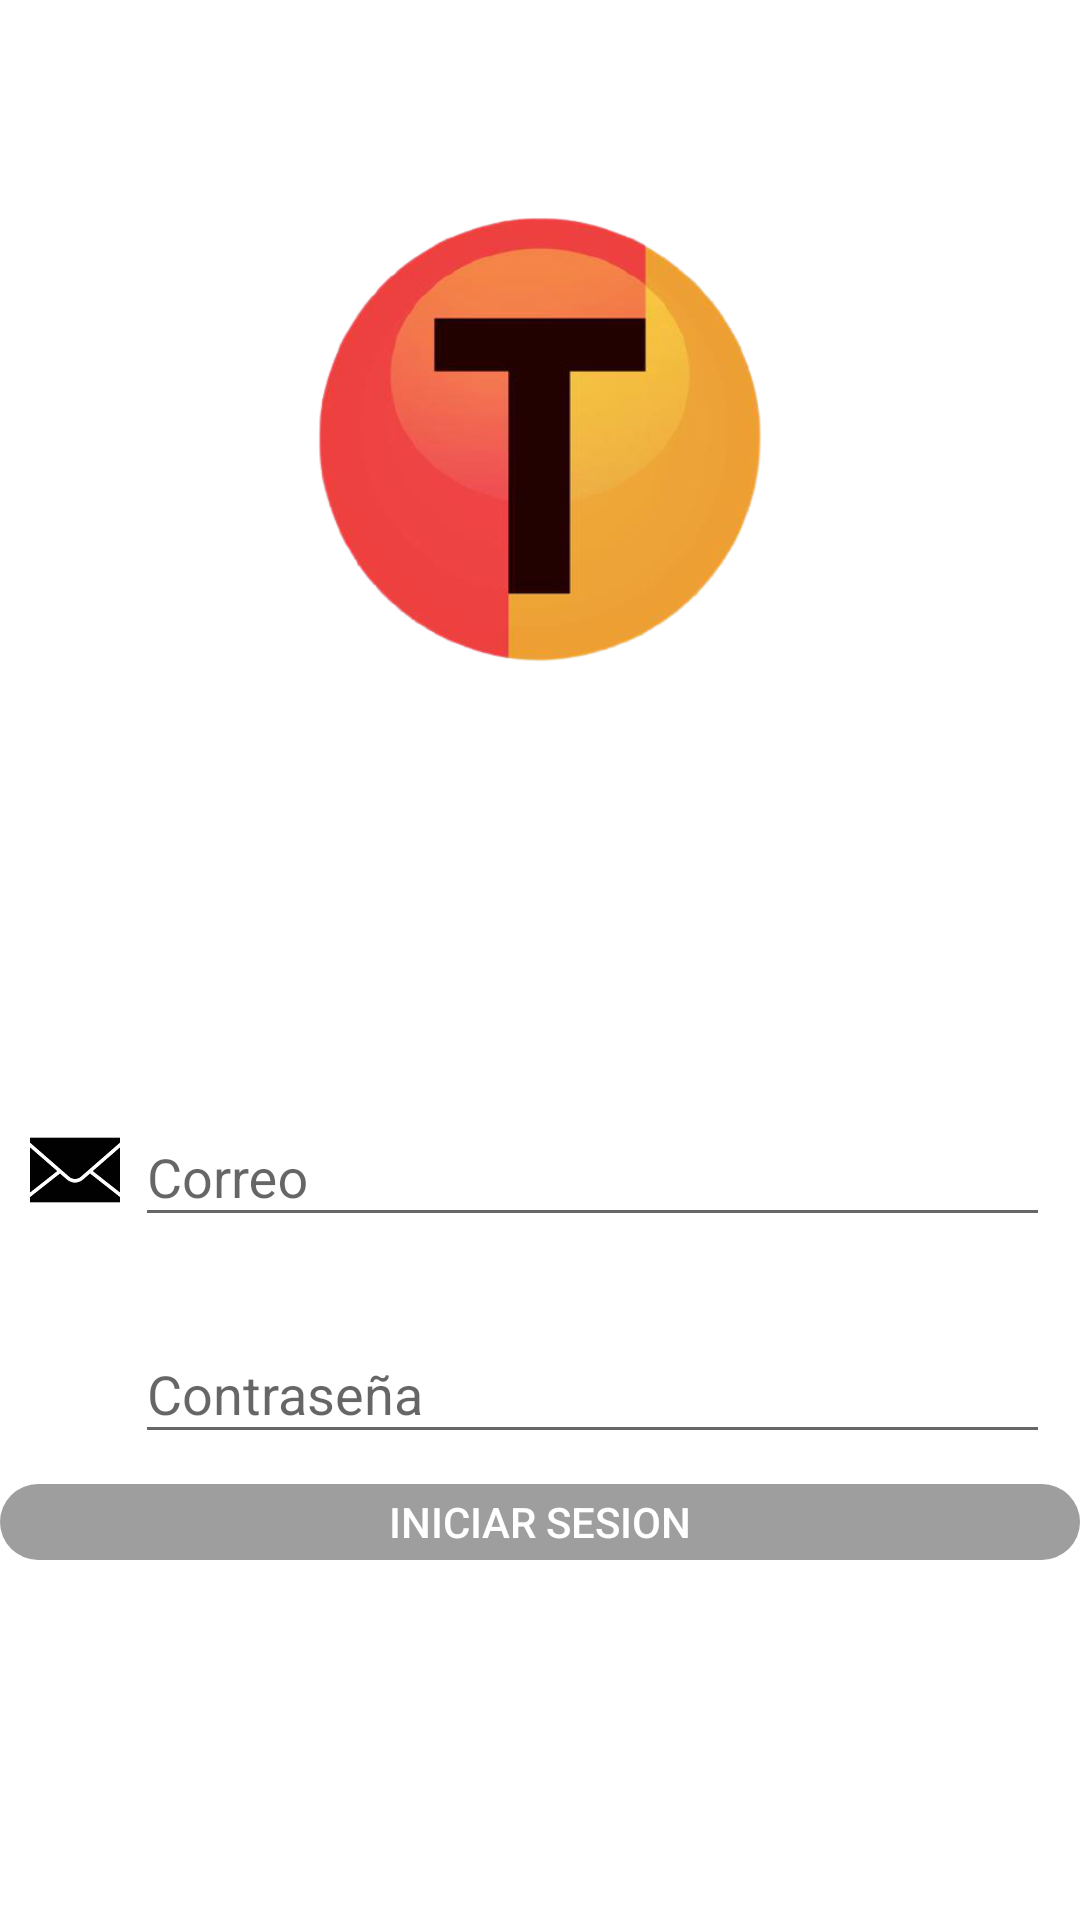

Named icons in this screenshot (1080w x 1920h) and their centers, (x=x, y=y):
mensaje: (x=75, y=1170)
